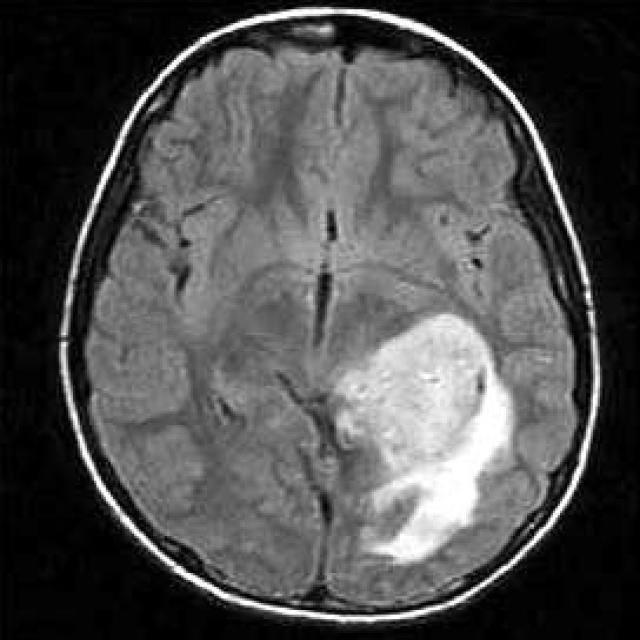brain tumor: (341, 312, 508, 564)
